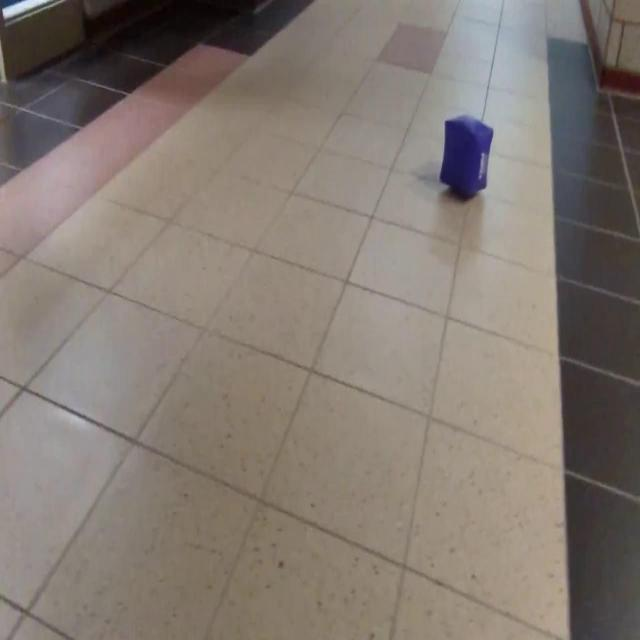frc_cube: (439, 114, 494, 199)
